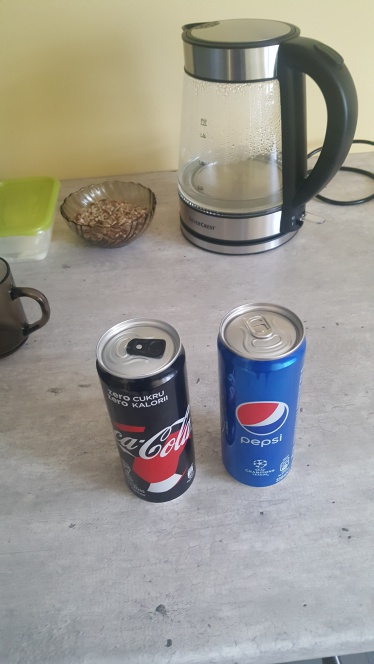colazero: (79, 308, 205, 502)
pepsi: (203, 295, 313, 495)
